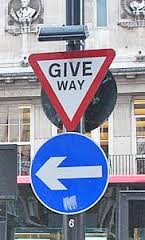yield_sign: (28, 48, 116, 133)
